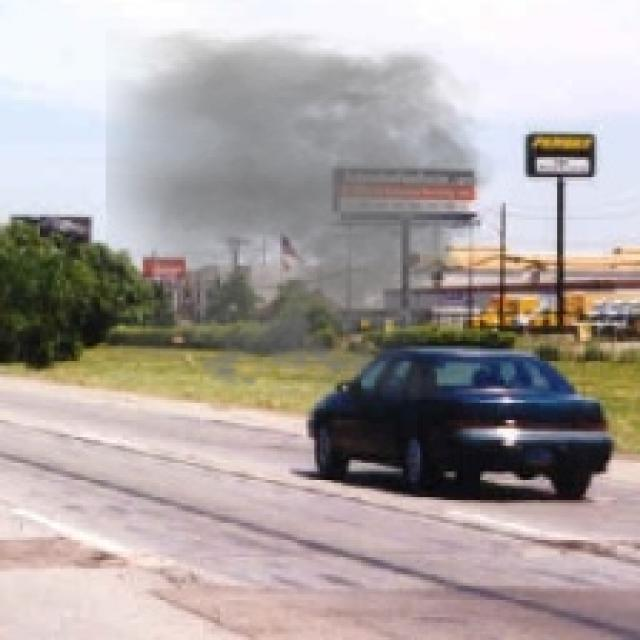Smoke: (106, 28, 508, 400)
